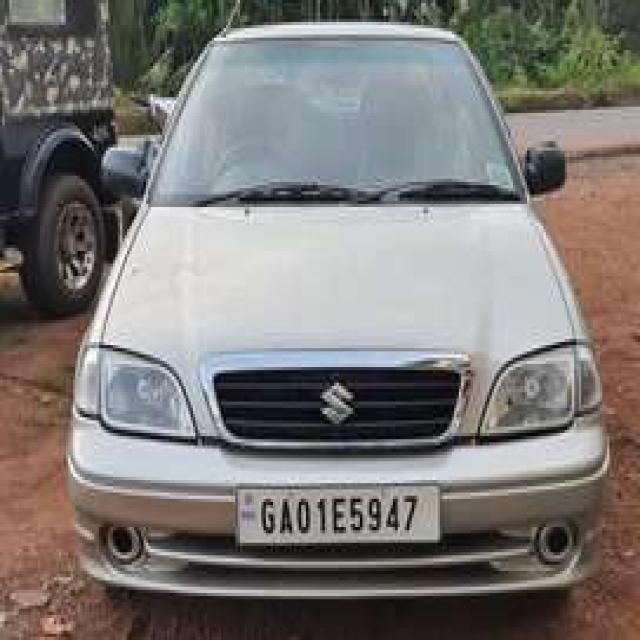licenseplate: (237, 484, 439, 547)
